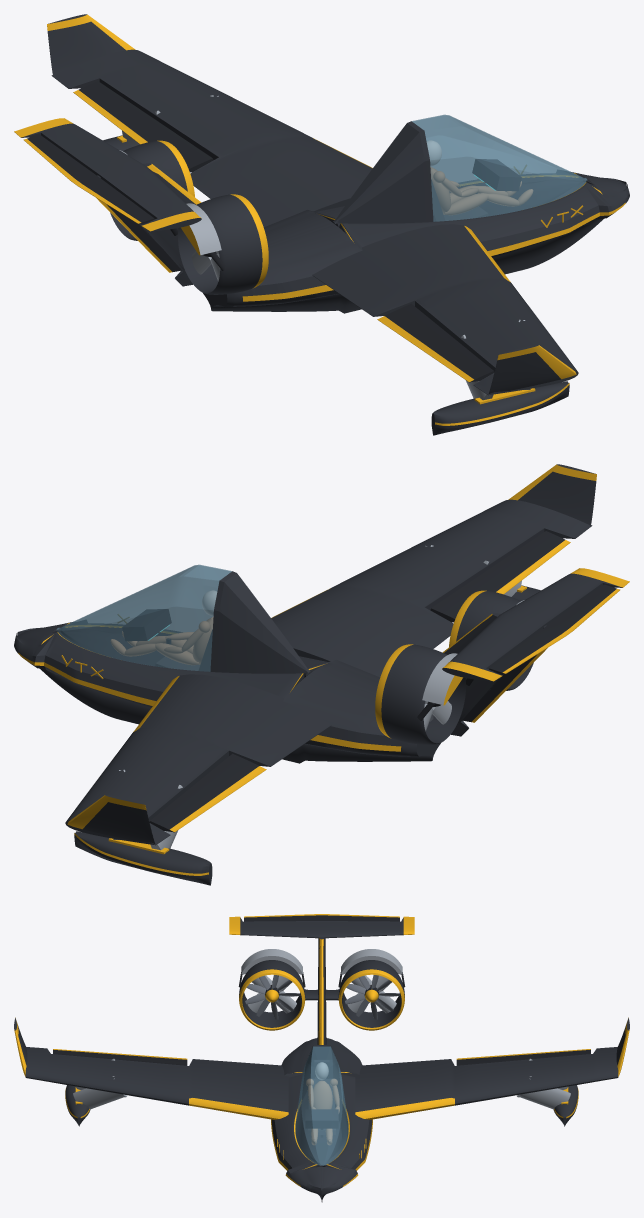
Rendered from B_faceted__upright_18.glb.
3 views of the same model, one above another, from view 1: azimuth 30°, elevation 25°; view 2: azimuth 150°, elevation 25°; view 3: azimuth 270°, elevation 25° (orthographic). The views are drawn at different scales.
Visible parts, largest first — view 1: Ricochet_Wing_Port, Ricochet_ConceptA_Hull_Cabin, Ricochet_Wing_Stbd, Ricochet_Canopy_Glass, Ricochet_Tail_Pylon_T_Tail, Ricochet_Duct_Stbd, Ricochet_Aileron_Port, Ricochet_Aileron_Stbd, Ricochet_Sponson_Stbd, Ricochet_Winglet_Port, Ricochet_Winglet_Stbd, Ricochet_Elevator (+5 smaller); view 2: Ricochet_Wing_Stbd, Ricochet_ConceptA_Hull_Cabin, Ricochet_Wing_Port, Ricochet_Canopy_Glass, Ricochet_Tail_Pylon_T_Tail, Ricochet_Duct_Port, Ricochet_Aileron_Stbd, Ricochet_Aileron_Port, Ricochet_Sponson_Port, Ricochet_Winglet_Stbd, Ricochet_Winglet_Port, Ricochet_Elevator (+5 smaller); view 3: Ricochet_Wing_Port, Ricochet_Wing_Stbd, Ricochet_ConceptA_Hull_Cabin, Ricochet_Canopy_Glass, Ricochet_Tail_Pylon_T_Tail, Ricochet_Duct_Port, Ricochet_Duct_Stbd, Study_Pilot_Manikin, Ricochet_Elevator, Ricochet_Cockpit_Interior, Ricochet_Aileron_Port, Ricochet_Aileron_Stbd (+8 smaller).
Boxes of the visible parts, bbox=[...] form: Ricochet_Wing_Port: bbox=[51, 49, 372, 227]; Ricochet_ConceptA_Hull_Cabin: bbox=[203, 172, 629, 313]; Ricochet_Wing_Stbd: bbox=[312, 224, 578, 395]; Ricochet_Canopy_Glass: bbox=[332, 114, 587, 223]; Ricochet_Tail_Pylon_T_Tail: bbox=[14, 118, 201, 286]; Ricochet_Duct_Stbd: bbox=[178, 194, 268, 294]; Ricochet_Aileron_Port: bbox=[73, 81, 213, 172]; Ricochet_Aileron_Stbd: bbox=[377, 303, 494, 382]; Ricochet_Sponson_Stbd: bbox=[431, 381, 569, 435]; Ricochet_Winglet_Port: bbox=[47, 14, 135, 75]; Ricochet_Winglet_Stbd: bbox=[488, 345, 576, 394]; Ricochet_Elevator: bbox=[23, 134, 154, 223]; Ricochet_Wing_Stbd: bbox=[271, 499, 592, 677]; Ricochet_ConceptA_Hull_Cabin: bbox=[14, 622, 440, 763]; Ricochet_Wing_Port: bbox=[65, 674, 331, 845]; Ricochet_Canopy_Glass: bbox=[56, 564, 311, 673]; Ricochet_Tail_Pylon_T_Tail: bbox=[442, 568, 629, 736]; Ricochet_Duct_Port: bbox=[375, 644, 465, 744]; Ricochet_Aileron_Stbd: bbox=[430, 531, 570, 622]; Ricochet_Aileron_Port: bbox=[149, 753, 266, 832]; Ricochet_Sponson_Port: bbox=[74, 831, 212, 885]; Ricochet_Winglet_Stbd: bbox=[508, 464, 596, 525]; Ricochet_Winglet_Port: bbox=[67, 795, 155, 844]; Ricochet_Elevator: bbox=[489, 584, 620, 673]; Ricochet_Wing_Port: bbox=[355, 1047, 618, 1119]; Ricochet_Wing_Stbd: bbox=[25, 1047, 288, 1119]; Ricochet_ConceptA_Hull_Cabin: bbox=[271, 1038, 372, 1202]; Ricochet_Canopy_Glass: bbox=[295, 1045, 348, 1165]; Ricochet_Tail_Pylon_T_Tail: bbox=[229, 916, 414, 1044]; Ricochet_Duct_Port: bbox=[338, 960, 404, 1030]; Ricochet_Duct_Stbd: bbox=[239, 960, 305, 1030]; Study_Pilot_Manikin: bbox=[306, 1062, 339, 1144]; Ricochet_Elevator: bbox=[244, 914, 399, 921]; Ricochet_Cockpit_Interior: bbox=[305, 1060, 338, 1137]; Ricochet_Aileron_Port: bbox=[456, 1049, 590, 1065]; Ricochet_Aileron_Stbd: bbox=[53, 1049, 187, 1065].
Size of the model in its own units: 6.78 by 2.34 by 9.64.
